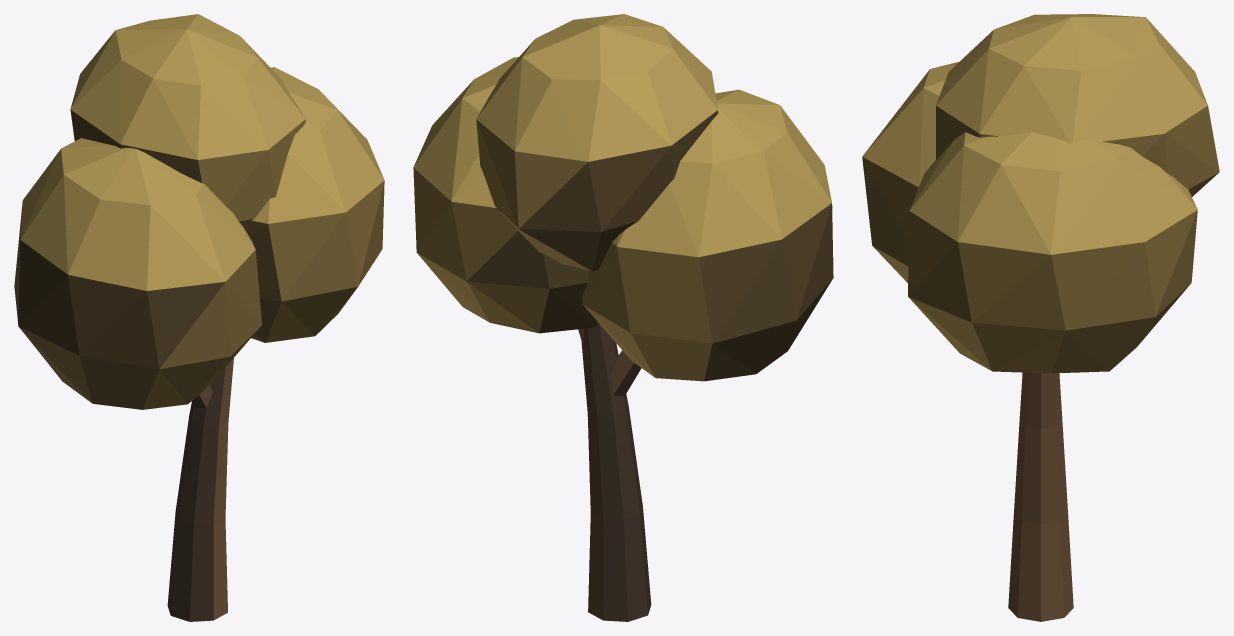
Rendered from TW_TREE_ROUND_SMALL_A_LOD0.glb.
The picture shows the model from 3 angles, left to right: view 1: azimuth 30°, elevation 25°; view 2: azimuth 150°, elevation 25°; view 3: azimuth 270°, elevation 25°; orthographic projection. The views are drawn at different scales.
Visible parts, largest first — view 1: TW_TREE_ROUND_SMALL_A_LOD0; view 2: TW_TREE_ROUND_SMALL_A_LOD0; view 3: TW_TREE_ROUND_SMALL_A_LOD0.
Boxes of the visible parts, x1=… form: TW_TREE_ROUND_SMALL_A_LOD0: x1=14, y1=14, x2=384, y2=621; TW_TREE_ROUND_SMALL_A_LOD0: x1=413, y1=14, x2=833, y2=621; TW_TREE_ROUND_SMALL_A_LOD0: x1=862, y1=14, x2=1219, y2=621.
Bounding box in the file's own units: 1.8 × 2.8 × 1.53.
Materials: 1 (1 with a texture image).
